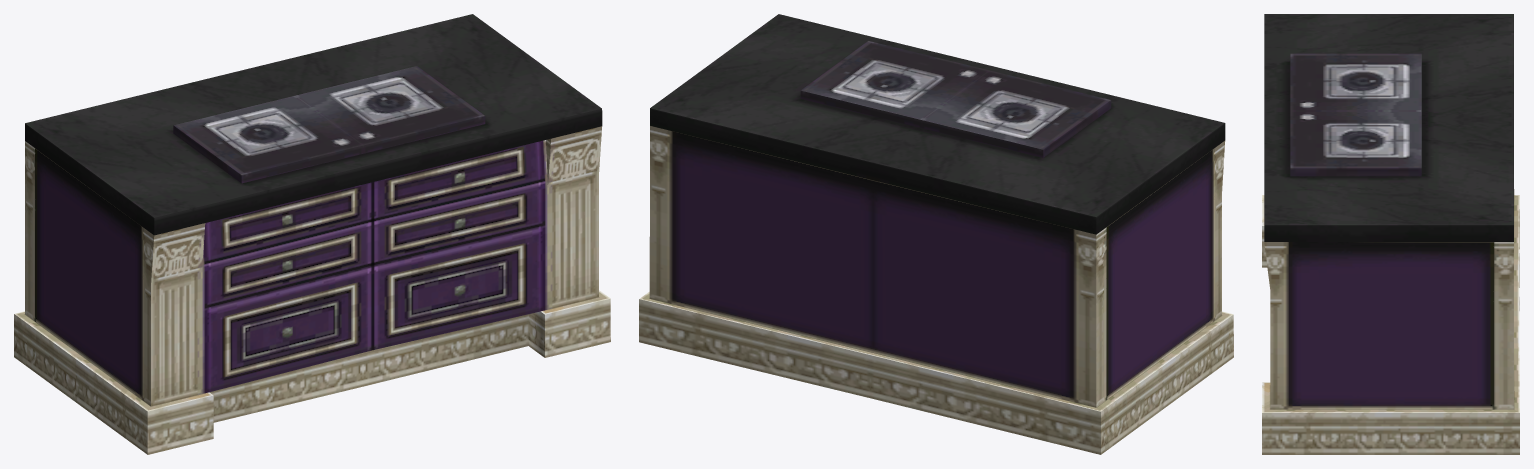
File: furni_0201120_01.FBX
The picture shows the model from 3 angles, left to right: view 1: azimuth 30°, elevation 25°; view 2: azimuth 150°, elevation 25°; view 3: azimuth 270°, elevation 25°; orthographic projection. The views are drawn at different scales.
Parts seen in each view (by area): view 1: furni_0201120_01; view 2: furni_0201120_01; view 3: furni_0201120_01.
Boxes of the visible parts, x1,y1,x2,y2 form: furni_0201120_01: (14, 14, 610, 454); furni_0201120_01: (639, 14, 1233, 454); furni_0201120_01: (1262, 14, 1519, 454).
Size of the model in its own units: 165 by 82.8 by 82.62.
1 material, 1 textured.
